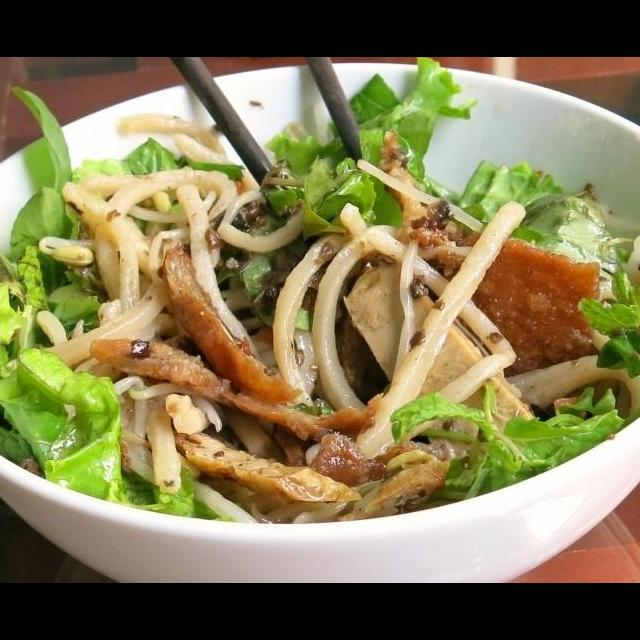banh da: (453, 226, 602, 387)
mi: (31, 108, 310, 381), (270, 196, 534, 470), (112, 388, 374, 530)
